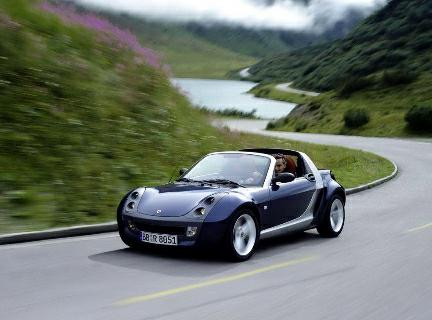smart-roadster: (118, 148, 356, 260)
